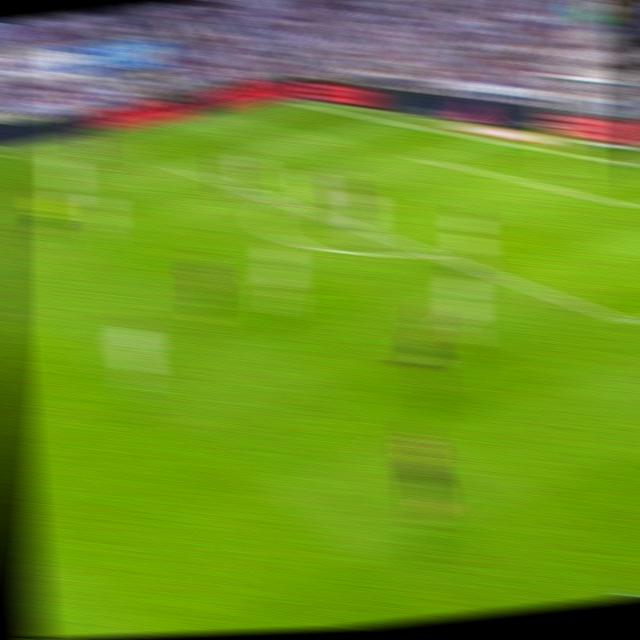bigarea_bottom_inner: (619, 309, 640, 334)
bottom_arc_area_intersection: (416, 242, 443, 260)
corner: (281, 94, 309, 108)
top_arc_area_intersection: (266, 191, 291, 209)
